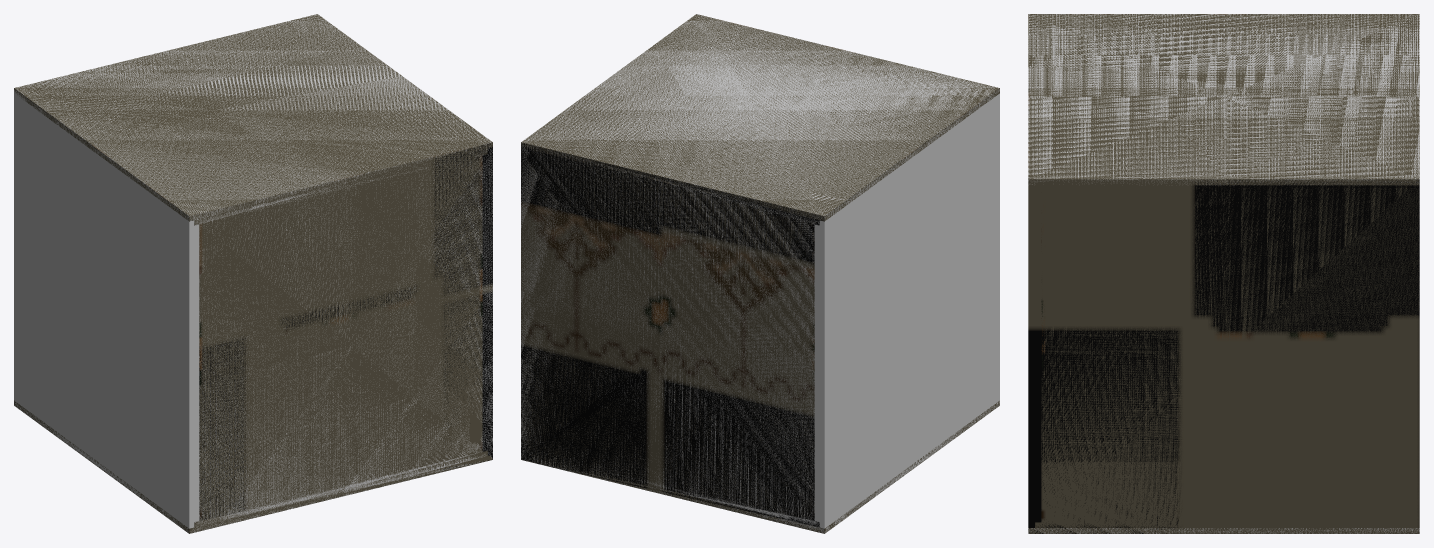
Rendered from Level1FinalWalls.fbx.
The picture shows the model from 3 angles, left to right: view 1: azimuth 30°, elevation 25°; view 2: azimuth 150°, elevation 25°; view 3: azimuth 270°, elevation 25°; orthographic projection. The views are drawn at different scales.
Visible parts, largest first — view 1: 3_side, top_bottom, 1_side, parallel, 4_side; view 2: 1_side, parallel, top_bottom, 3_side, 2_side, 4_side; view 3: 1_side, 2_side, 3_side, parallel, 4_side.
Part boxes in pixels (left/top/right/bottom): 3_side: left=14, top=14, right=492, bottom=533; top_bottom: left=14, top=88, right=492, bottom=532; 1_side: left=199, top=142, right=492, bottom=520; parallel: left=14, top=14, right=491, bottom=533; 4_side: left=15, top=15, right=486, bottom=532; 1_side: left=521, top=143, right=824, bottom=532; parallel: left=522, top=14, right=999, bottom=532; top_bottom: left=521, top=93, right=999, bottom=533; 3_side: left=521, top=14, right=999, bottom=533; 2_side: left=521, top=143, right=823, bottom=518; 4_side: left=525, top=14, right=998, bottom=531; 1_side: left=1028, top=179, right=1419, bottom=533; 2_side: left=1030, top=179, right=1419, bottom=533; 3_side: left=1028, top=14, right=1419, bottom=533; parallel: left=1028, top=14, right=1419, bottom=533; 4_side: left=1028, top=14, right=1419, bottom=533.
Bounding box in the file's own units: 2 × 2 × 2.
